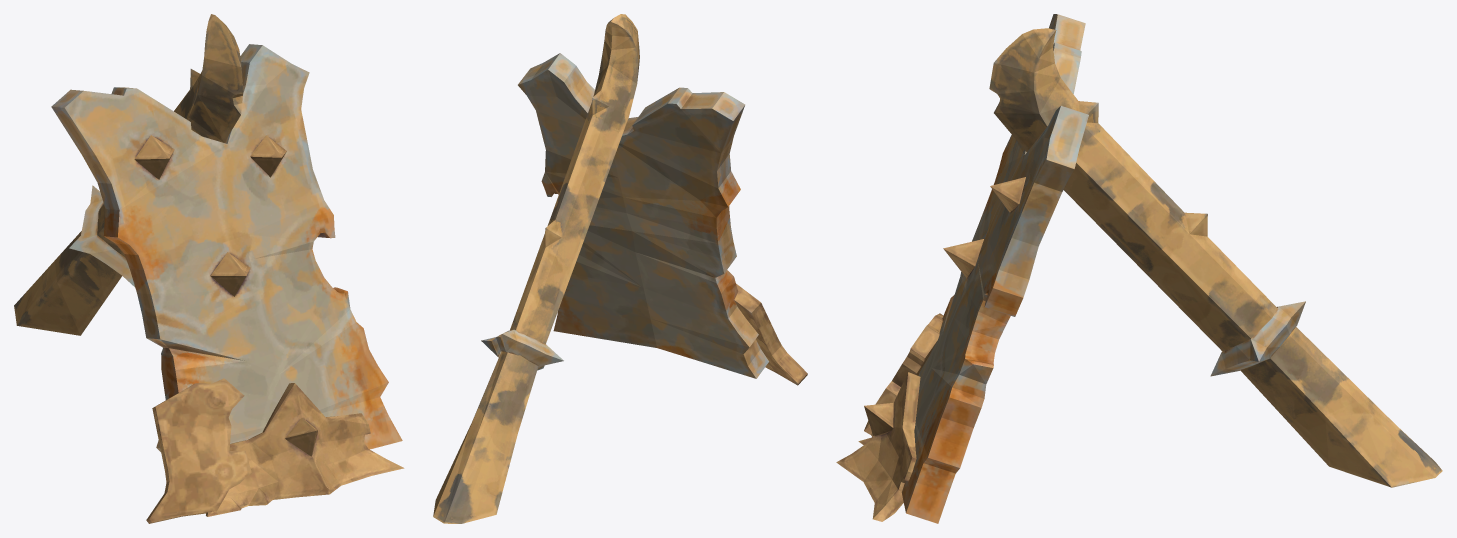
The model's file is Barricade_A.fbx.
3 renders of one model, left to right at view 1: azimuth 30°, elevation 25°; view 2: azimuth 150°, elevation 25°; view 3: azimuth 270°, elevation 25°, orthographic. The views are drawn at different scales.
Visible parts, largest first — view 1: Dn_HL_Barricade_A.mo; view 2: Dn_HL_Barricade_A.mo; view 3: Dn_HL_Barricade_A.mo.
Boxes of the visible parts, bbox=[...] form: Dn_HL_Barricade_A.mo: bbox=[14, 14, 404, 523]; Dn_HL_Barricade_A.mo: bbox=[433, 14, 807, 523]; Dn_HL_Barricade_A.mo: bbox=[836, 14, 1442, 523].
Size of the model in its own units: 215 by 331 by 404.
Materials: 1 (1 with a texture image).
